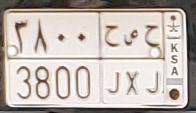0: (75, 33, 92, 101), (55, 33, 71, 99)
3: (14, 19, 32, 99)
8: (34, 18, 51, 100)
J: (104, 25, 122, 95), (144, 24, 161, 95)
X: (124, 29, 140, 95)
